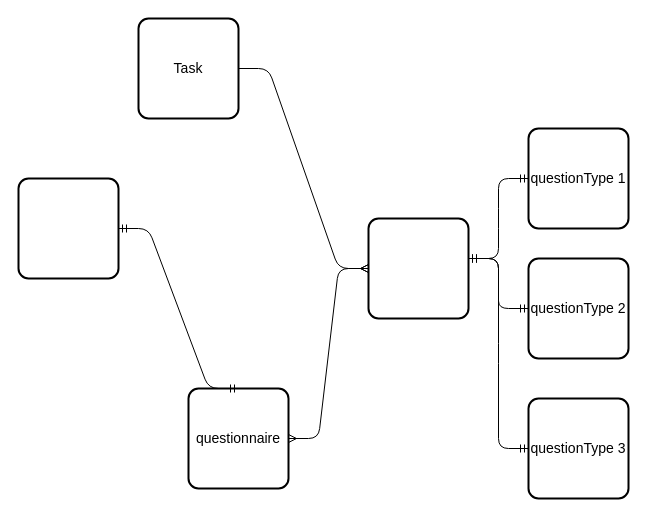
Image size: 646x516. Some labels were removed from this diagram. The shapes that lost their labels are listed below. From the top down, each one's centre as x and y in pixels, then its label:
(68,228): Participant
(418,268): question
